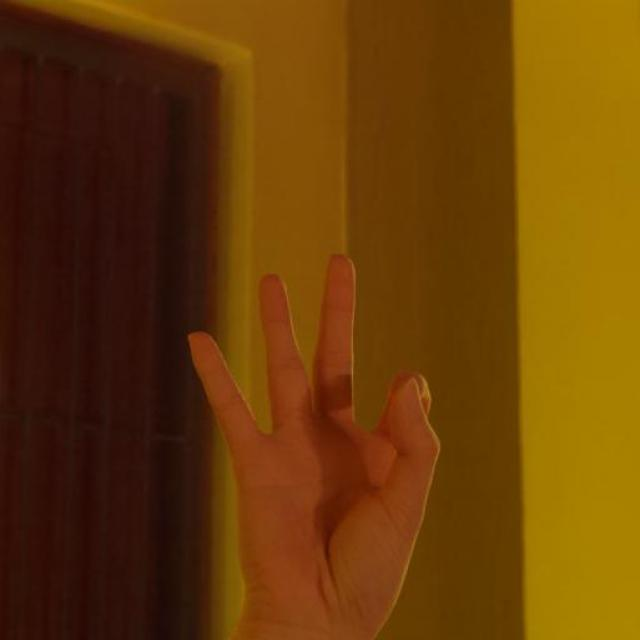F: (185, 251, 445, 638)
